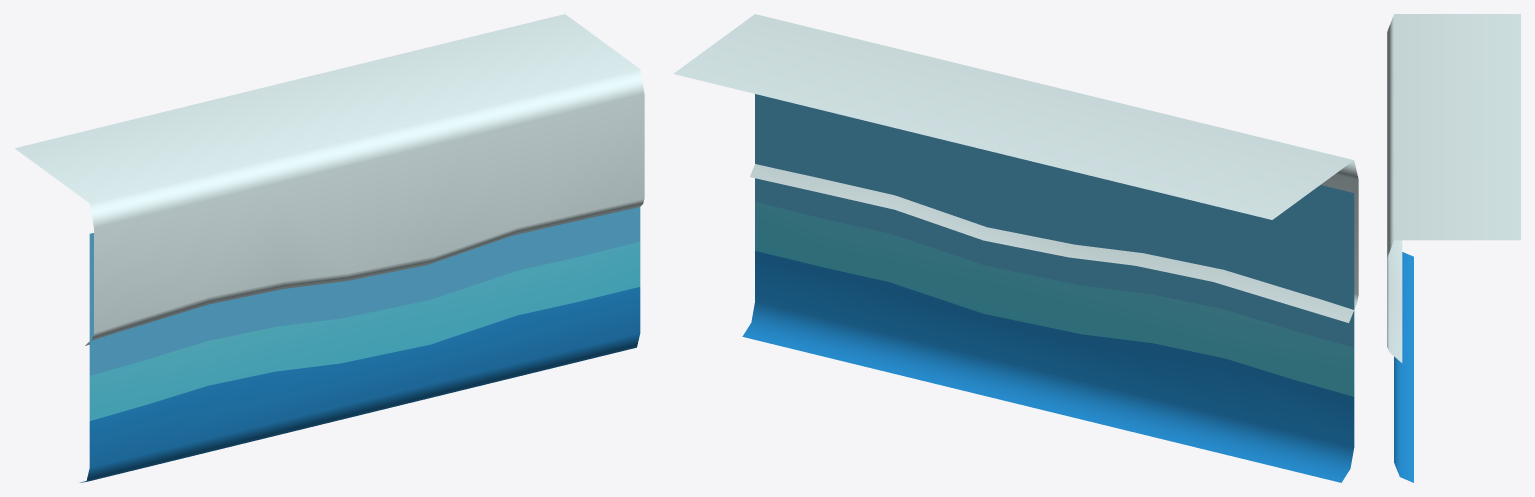
The model's file is ice_wall_002.fbx.
The picture shows the model from 3 angles, left to right: view 1: azimuth 30°, elevation 25°; view 2: azimuth 150°, elevation 25°; view 3: azimuth 270°, elevation 25°; orthographic projection. The views are drawn at different scales.
Visible parts, largest first — view 1: ice_wall_002; view 2: ice_wall_002; view 3: ice_wall_002.
Boxes of the visible parts, x1,y1,x2,y2 form: ice_wall_002: [15, 14, 644, 482]; ice_wall_002: [673, 14, 1358, 482]; ice_wall_002: [1387, 14, 1520, 482].
Size of the model in its own units: 400 by 100 by 200.
